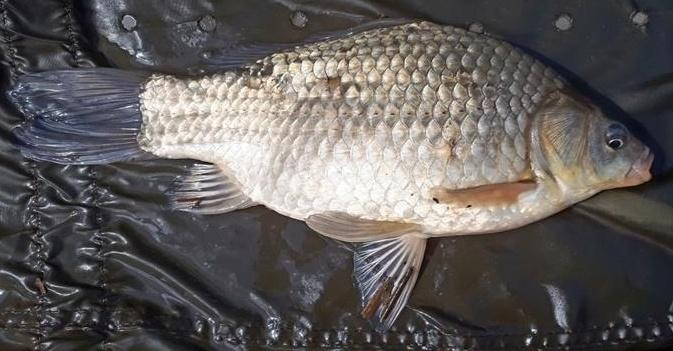Silver Barb: (15, 18, 653, 325)
